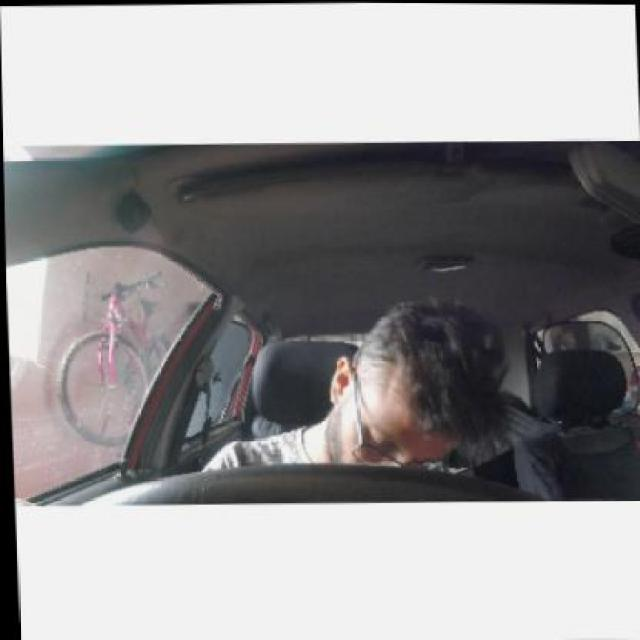drowsy: (324, 296, 516, 502)
